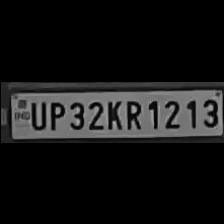1: (144, 97, 160, 129), (182, 96, 198, 128)
2: (160, 97, 182, 129), (84, 97, 104, 128)
3: (199, 95, 219, 127), (65, 97, 83, 128)
K: (104, 96, 122, 130)
P: (44, 98, 64, 130)
R: (120, 96, 142, 130)
U: (26, 97, 44, 128)
